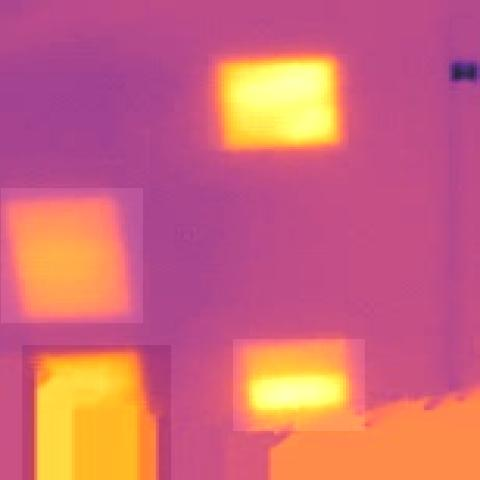fault: (22, 345, 171, 480), (1, 188, 143, 323), (208, 54, 348, 151), (233, 339, 365, 431)
